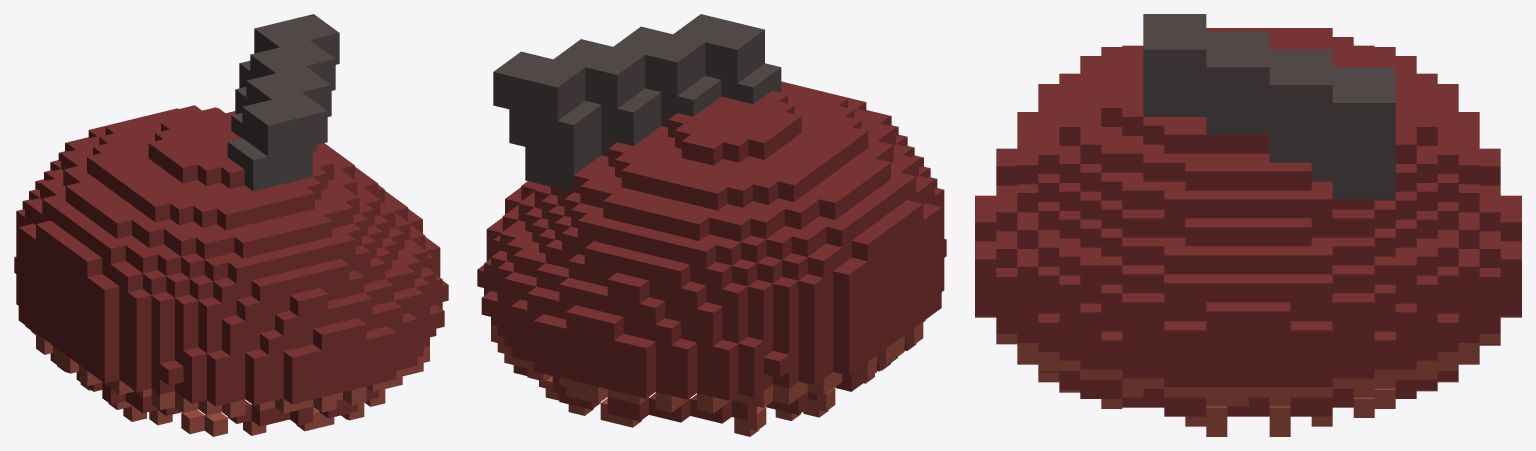
The model's file is cloth_masterwork_shoulder_L.glb.
The picture shows the model from 3 angles, left to right: view 1: azimuth 30°, elevation 25°; view 2: azimuth 150°, elevation 25°; view 3: azimuth 270°, elevation 25°; orthographic projection. The views are drawn at different scales.
Visible parts, largest first — view 1: cloth_masterwork_shoulder_L; view 2: cloth_masterwork_shoulder_L; view 3: cloth_masterwork_shoulder_L.
Boxes of the visible parts, x1=… form: cloth_masterwork_shoulder_L: x1=14, y1=14, x2=448, y2=436; cloth_masterwork_shoulder_L: x1=477, y1=14, x2=946, y2=436; cloth_masterwork_shoulder_L: x1=975, y1=14, x2=1521, y2=436.
Bounding box in the file's own units: 0.276 × 0.216 × 0.312.
